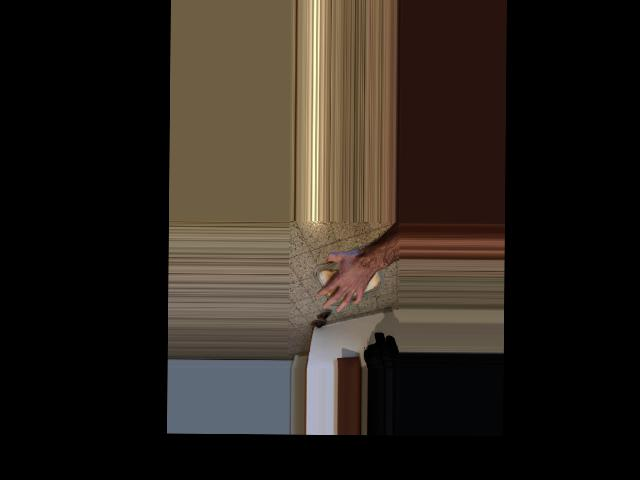cheese: (315, 245, 381, 310)
